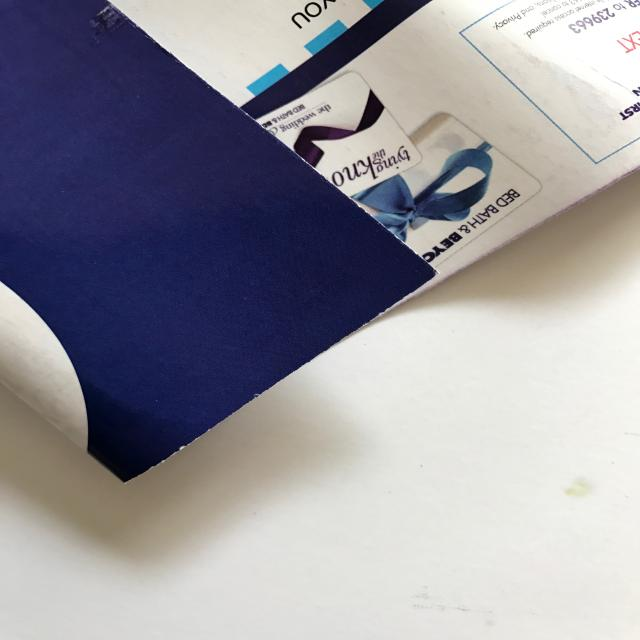paper: (1, 0, 639, 483)
